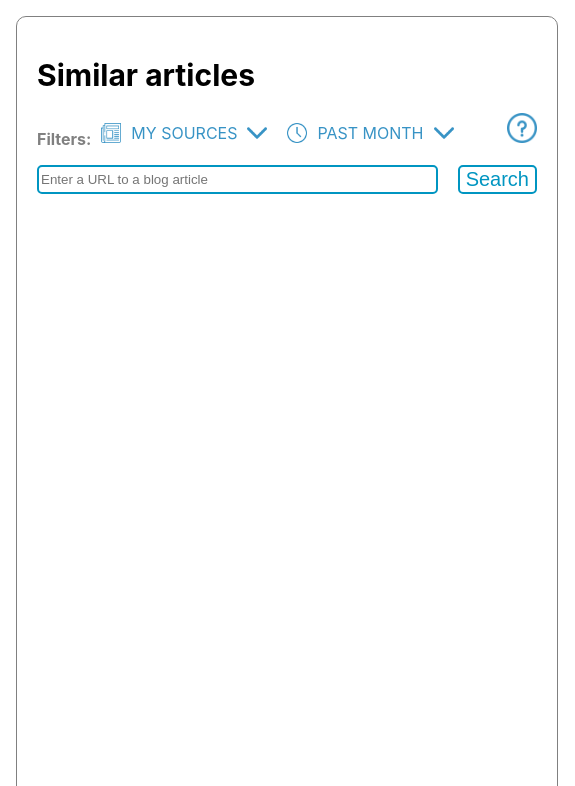
Searching a similar article › renders a list of similar articles
This screenshot has width=575, height=786.
Type "https://blog.lateral.io/2020/10/using-machine-learning-to-segment-documents/" into the field with placeholder "Enter a URL to a blog article" at (238, 180), box [37,165,438,194]
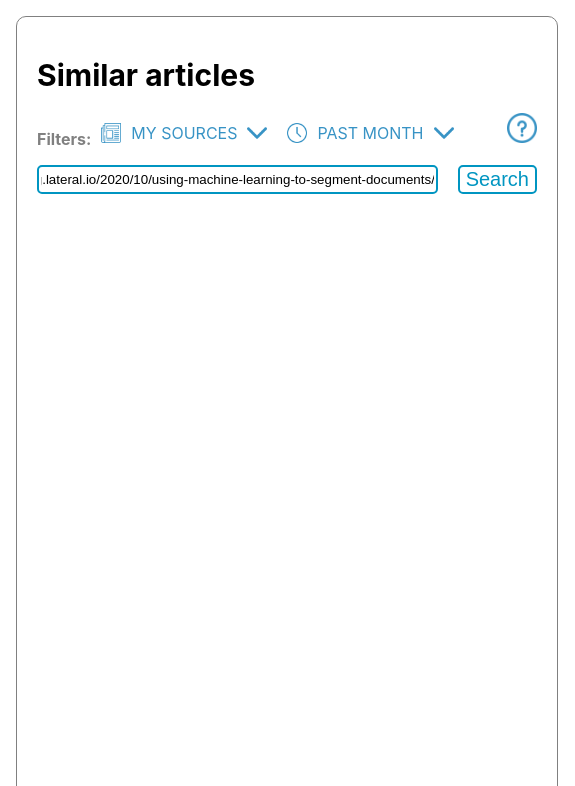
Click the button "Search" at (498, 180), box [458,165,537,194]
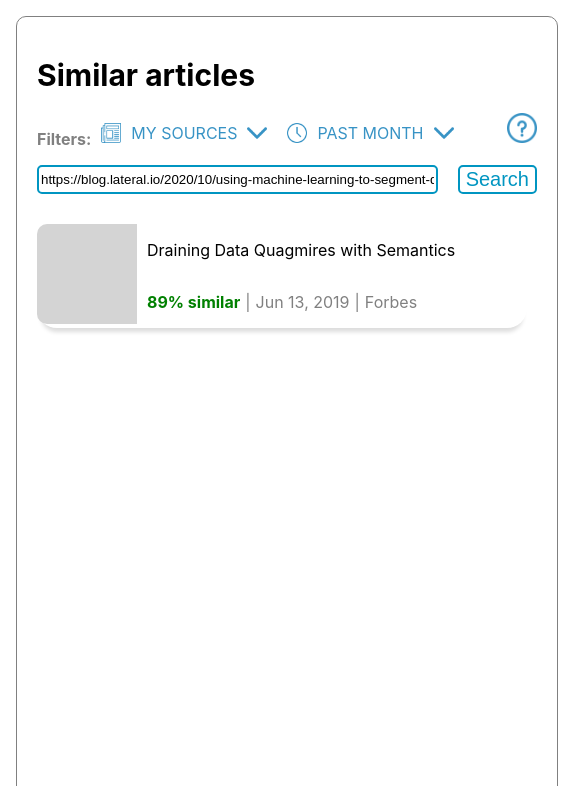
Check: the text with test id "ArticleList" reads "Draining Data Quagmires with Semantics", box [147,240,455,260]
Check: the text with test id "ArticleList" reads "89% similar", box [147,292,240,312]
Check: the text with test id "ArticleList" reads "Jun 13, 2019", box [256,292,350,312]
